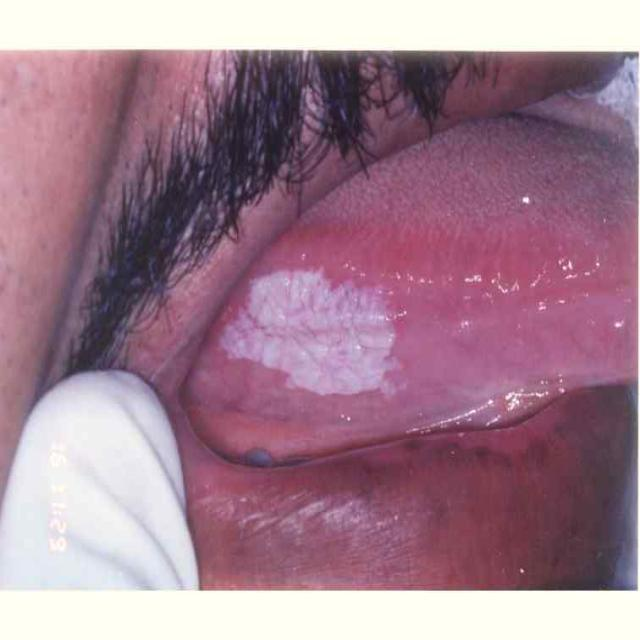leukoplakia-detection: (217, 262, 407, 396)
processing_area: (181, 117, 638, 459)
